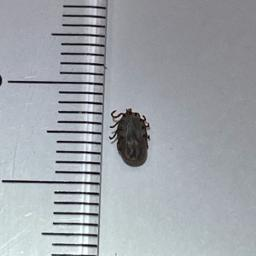Rhipicephalus sanguineus: (109, 109, 150, 163)
